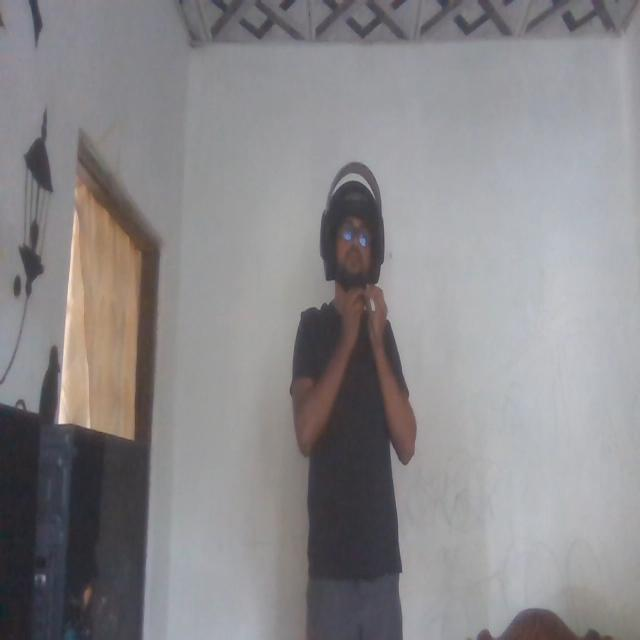Helmet_Wearer: (313, 157, 391, 329)
Person: (295, 158, 417, 640)
